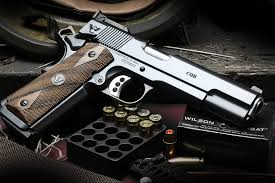gun: (5, 11, 266, 134)
